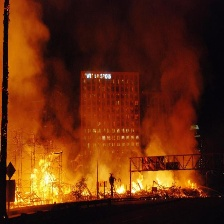fire: (15, 158, 206, 210)
smoke: (122, 1, 207, 157), (1, 3, 54, 149)
